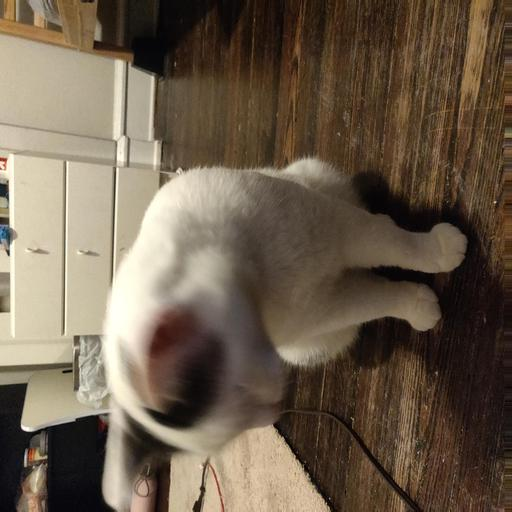cat: (65, 153, 358, 446)
